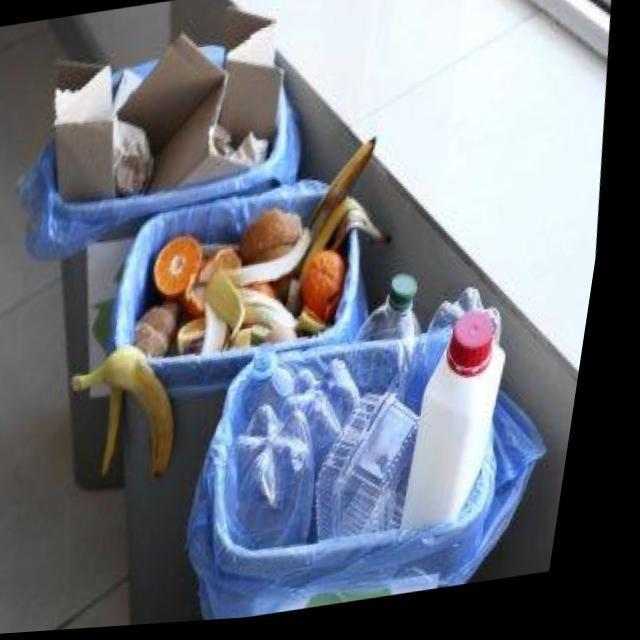Garbage: (80, 213, 337, 387), (60, 28, 284, 199), (242, 356, 433, 555), (419, 295, 516, 535), (312, 205, 386, 311), (316, 142, 379, 243), (367, 279, 431, 344), (311, 254, 355, 328)
Plastic: (419, 317, 516, 535), (334, 399, 432, 542), (250, 409, 329, 554), (294, 364, 372, 479), (255, 355, 306, 422)
contaminated_waste: (248, 356, 432, 553), (419, 303, 516, 535), (440, 294, 511, 382), (369, 279, 429, 347), (460, 317, 505, 383)
